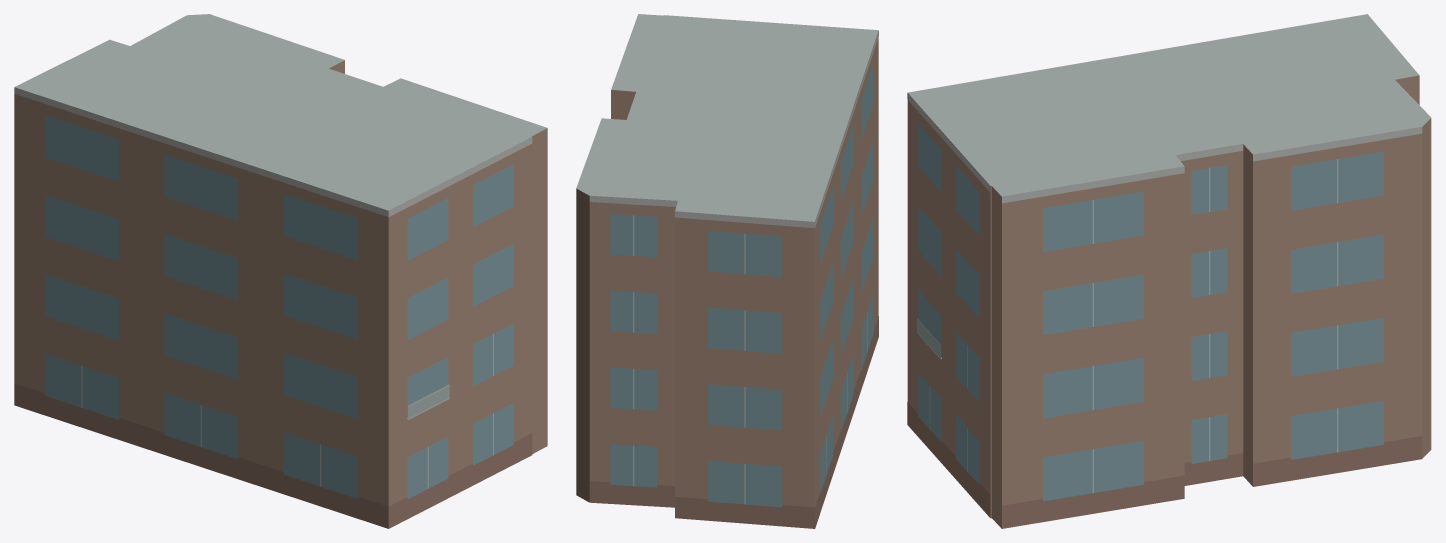
File: survey-upis-32885969.glb
3 views of the same model, side by side, from view 1: azimuth 30°, elevation 25°; view 2: azimuth 150°, elevation 25°; view 3: azimuth 270°, elevation 25° (orthographic). The views are drawn at different scales.
Parts seen in each view (by area): view 1: survey-upis-32885969.tmp; view 2: survey-upis-32885969.tmp; view 3: survey-upis-32885969.tmp.
Part boxes in pixels (x1,y1,x2,y2): survey-upis-32885969.tmp: (14, 14, 547, 528); survey-upis-32885969.tmp: (576, 14, 878, 528); survey-upis-32885969.tmp: (907, 14, 1431, 528).
Size of the model in its own units: 14.06 by 11.92 by 17.04.
